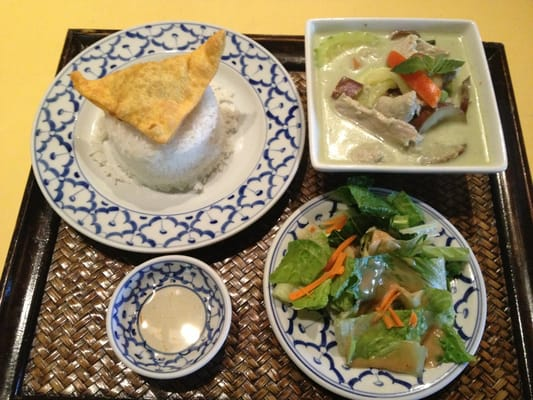soup: (71, 29, 228, 145)
sushi: (263, 184, 486, 400), (305, 16, 509, 176), (108, 255, 233, 380)
